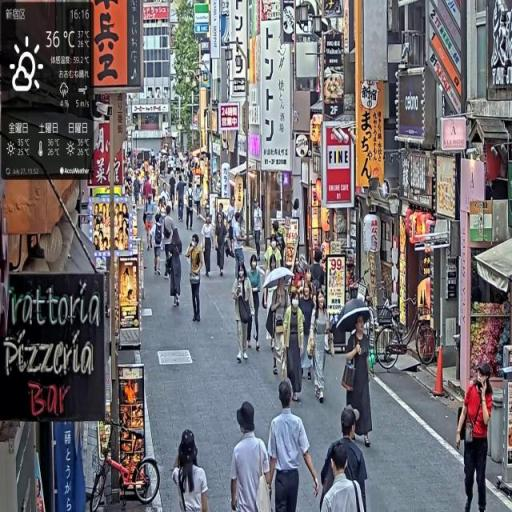person: (268, 378, 321, 512), (456, 364, 494, 512), (321, 407, 369, 512), (231, 400, 276, 512), (342, 312, 375, 452), (172, 429, 212, 512), (309, 291, 334, 406), (233, 260, 254, 366), (187, 233, 206, 326), (168, 227, 185, 310), (152, 203, 166, 277), (215, 215, 229, 280), (145, 193, 159, 256), (202, 213, 215, 279), (253, 199, 265, 266)
